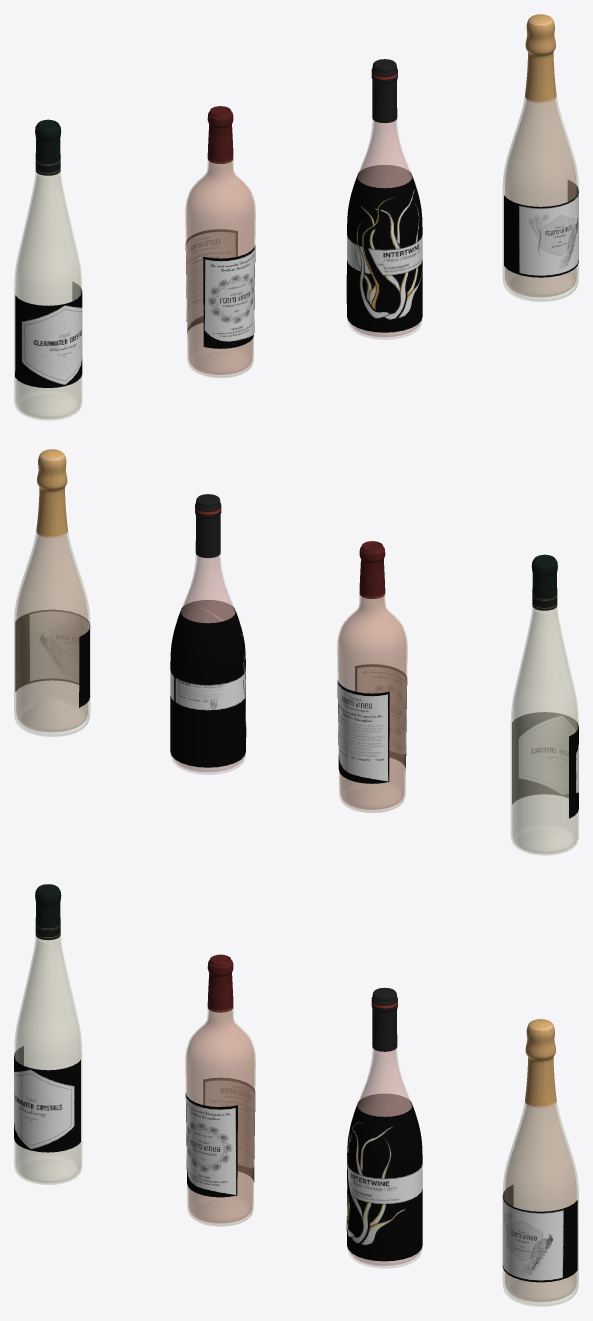
File: wine_bottles_01.glb
The picture shows the model from 3 angles, top to bottom: view 1: azimuth 30°, elevation 25°; view 2: azimuth 150°, elevation 25°; view 3: azimuth 330°, elevation 25°; orthographic projection.
Visible parts, largest first — view 1: wine_bottles_01_champagne, wine_bottles_01_alsace, wine_bottles_01_burgundy, wine_bottles_01_bordeaux; view 2: wine_bottles_01_champagne, wine_bottles_01_alsace, wine_bottles_01_burgundy, wine_bottles_01_bordeaux; view 3: wine_bottles_01_champagne, wine_bottles_01_alsace, wine_bottles_01_burgundy, wine_bottles_01_bordeaux.
Boxes of the visible parts, x1=… form: wine_bottles_01_champagne: x1=503, y1=14, x2=578, y2=301; wine_bottles_01_alsace: x1=14, y1=119, x2=82, y2=420; wine_bottles_01_burgundy: x1=346, y1=59, x2=422, y2=339; wine_bottles_01_bordeaux: x1=185, y1=106, x2=255, y2=377; wine_bottles_01_champagne: x1=14, y1=449, x2=90, y2=736; wine_bottles_01_alsace: x1=511, y1=554, x2=578, y2=855; wine_bottles_01_burgundy: x1=170, y1=494, x2=246, y2=774; wine_bottles_01_bordeaux: x1=337, y1=541, x2=407, y2=812; wine_bottles_01_champagne: x1=502, y1=1019, x2=578, y2=1306; wine_bottles_01_alsace: x1=14, y1=884, x2=81, y2=1184; wine_bottles_01_burgundy: x1=346, y1=987, x2=422, y2=1268; wine_bottles_01_bordeaux: x1=185, y1=954, x2=255, y2=1226.
Size of the model in its own units: 0.6763 by 0.3314 by 0.0806.
Materials: 12 (9 with a texture image).
